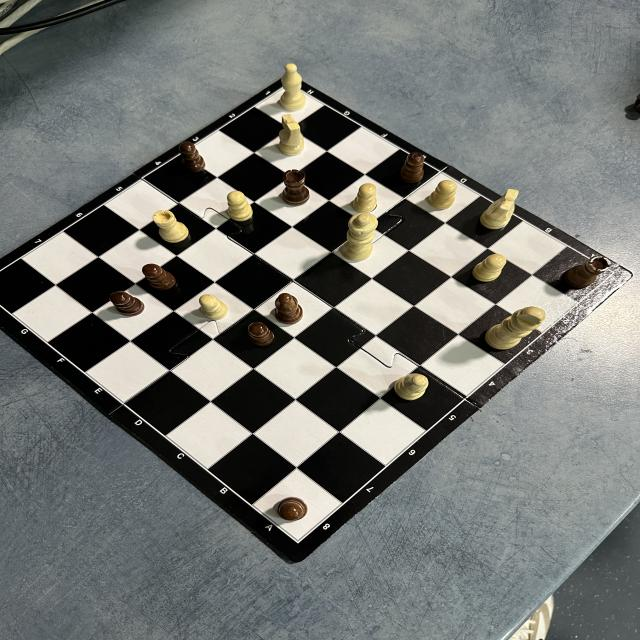Black-Bishop: (275, 292, 303, 324)
Black-Pawn: (142, 263, 177, 291), (179, 141, 206, 174), (109, 291, 144, 316), (278, 496, 308, 521), (400, 151, 424, 182), (247, 322, 275, 346)
Black-Rook: (566, 256, 610, 286), (282, 169, 310, 205)
White-Bishop: (279, 64, 307, 112), (393, 374, 429, 401)
White-King: (487, 306, 545, 349)
White-Knight: (480, 188, 519, 230), (279, 114, 304, 156)
White-Pawn: (474, 254, 506, 282), (227, 190, 253, 222), (430, 180, 457, 209), (200, 294, 228, 320), (352, 183, 376, 213)
White-Queen: (342, 212, 378, 260)
White-Rook: (153, 209, 190, 243)
